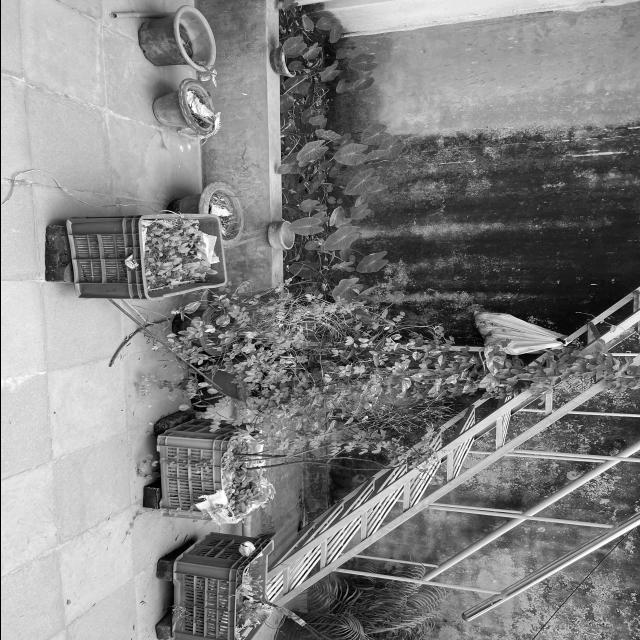Breeding Place: (182, 0, 348, 352), (71, 218, 223, 302), (157, 534, 277, 640), (152, 430, 264, 524), (136, 8, 214, 68), (176, 184, 244, 247), (256, 35, 324, 89), (150, 84, 214, 140), (256, 210, 312, 262)
